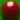brown: (0, 0, 20, 20)
